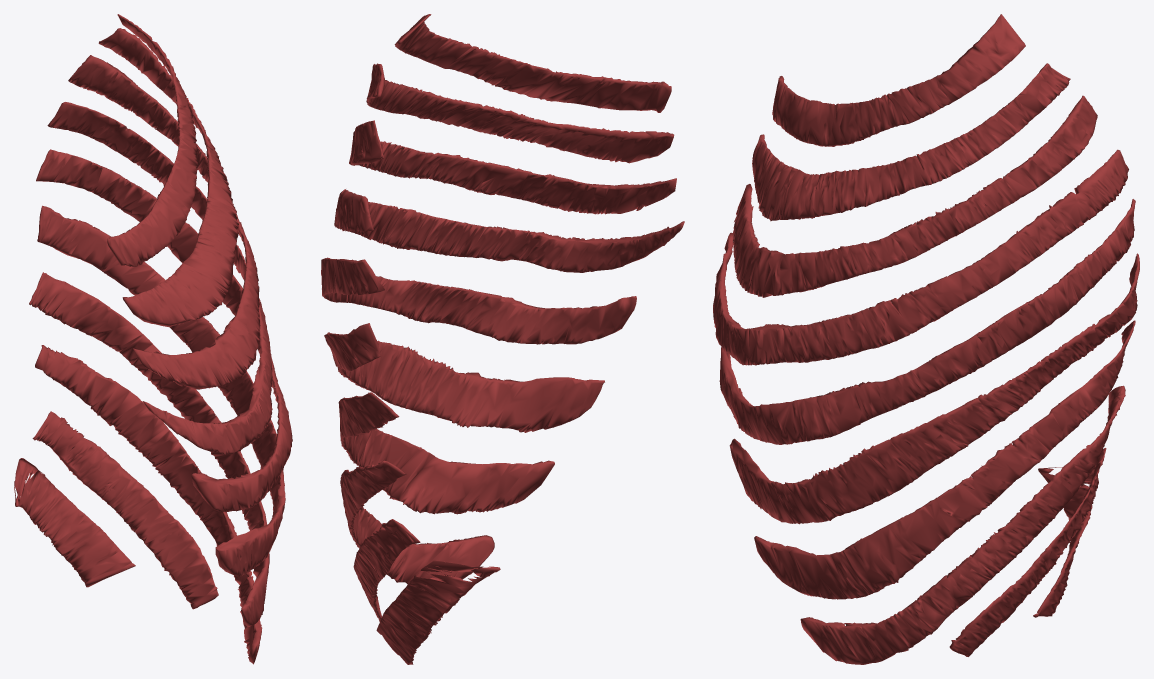
The model's file is internal-intercostal-muscles-l.glb.
3 views of the same model, side by side, from view 1: azimuth 30°, elevation 25°; view 2: azimuth 150°, elevation 25°; view 3: azimuth 270°, elevation 25° (orthographic). The views are drawn at different scales.
Visible parts, largest first — view 1: Internal intercostal muscles.l; view 2: Internal intercostal muscles.l; view 3: Internal intercostal muscles.l.
Boxes of the visible parts, x1,y1,x2,y2 form: Internal intercostal muscles.l: (14,14,292,664); Internal intercostal muscles.l: (321,14,684,664); Internal intercostal muscles.l: (713,14,1139,664).
Size of the model in its own units: 0.1257 by 0.33 by 0.2061.
